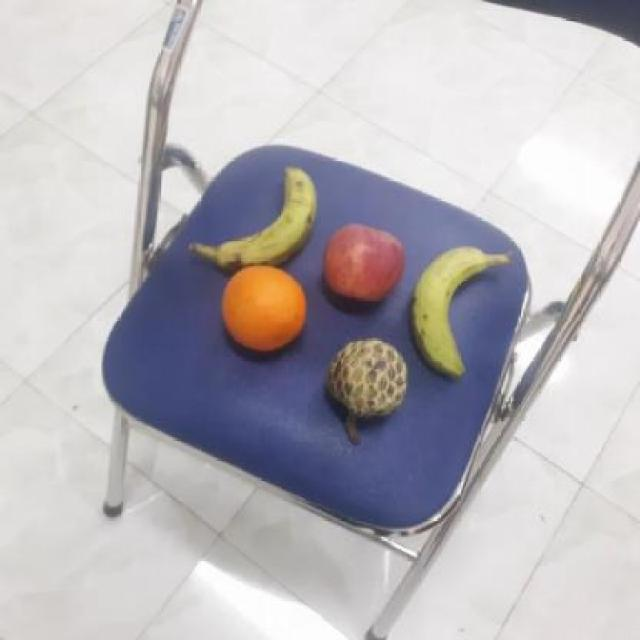apple: (323, 222, 406, 302)
banana: (208, 158, 322, 270), (405, 247, 500, 376)
oren: (217, 262, 306, 355)
sugar apple: (325, 338, 410, 420)
